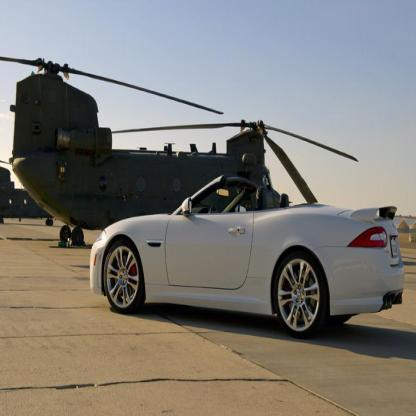Vehicle: (91, 172, 407, 340)
